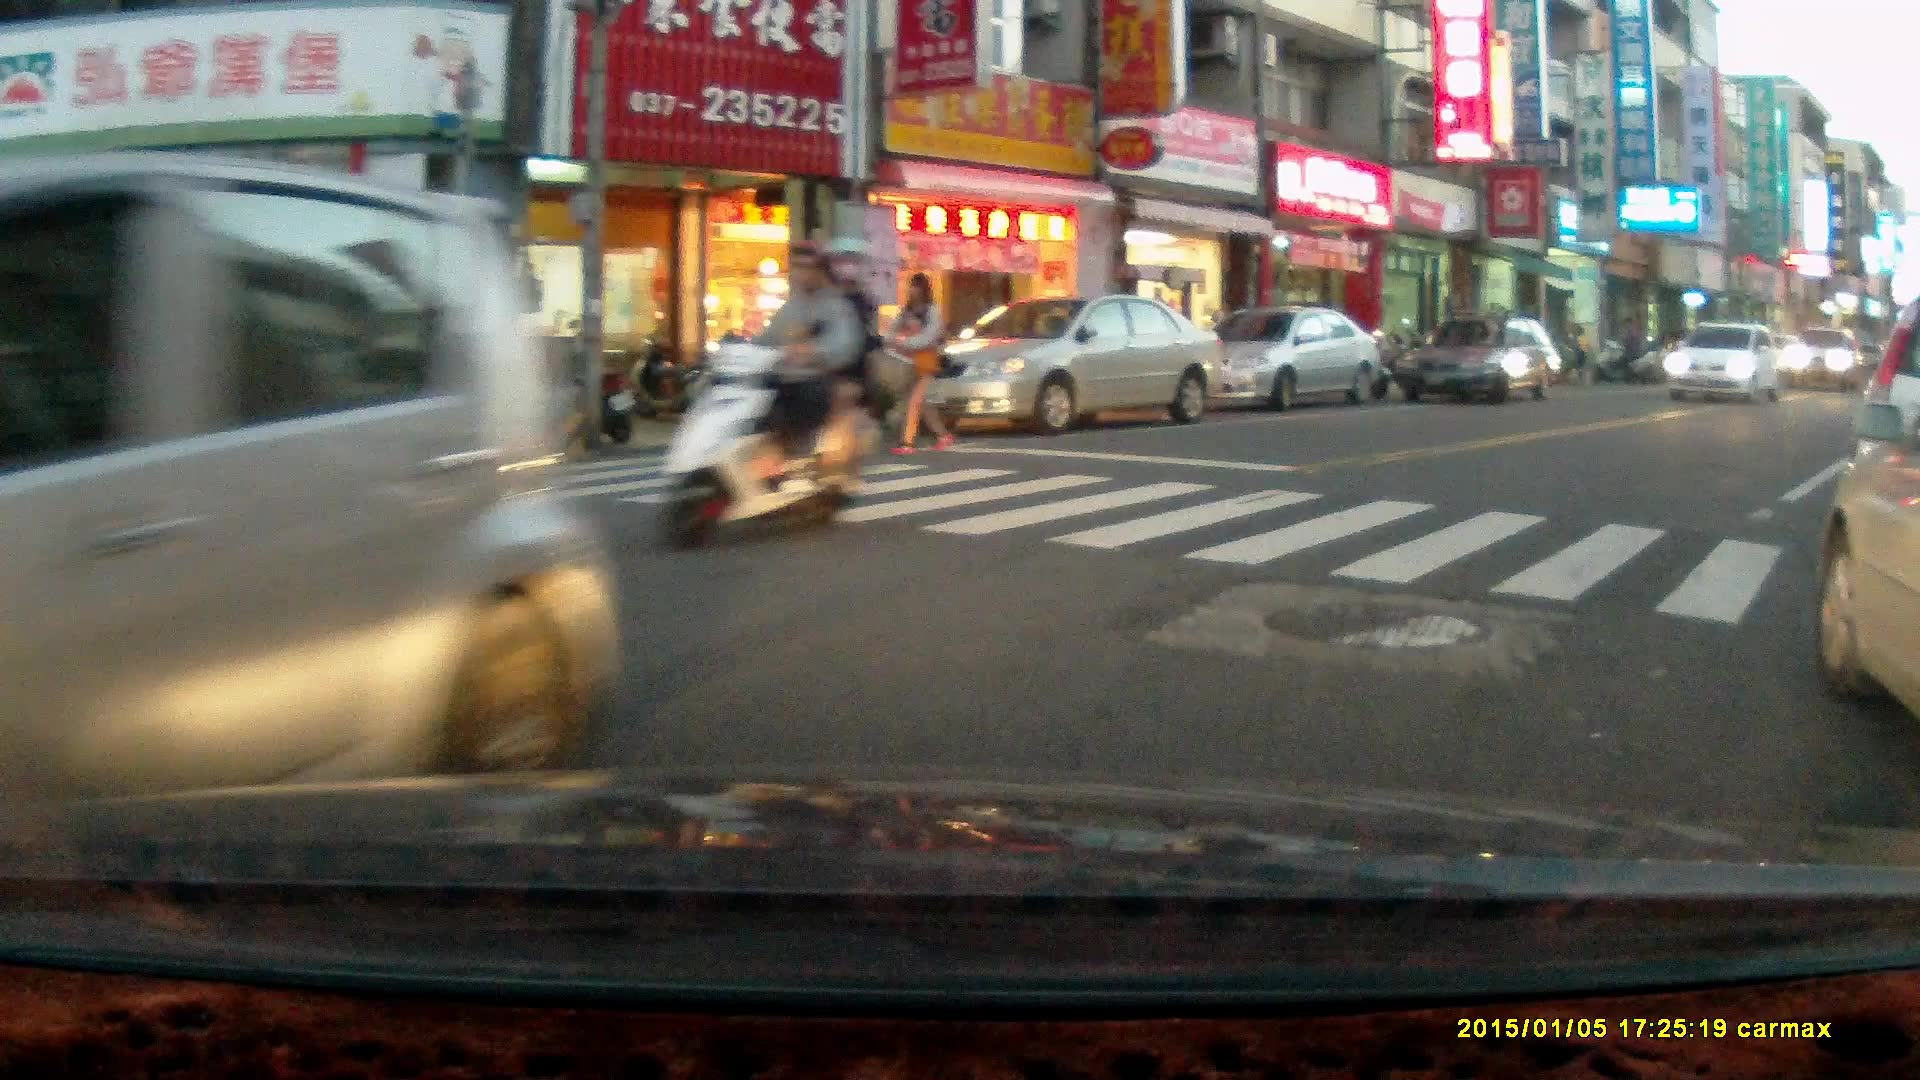pedestrian: (892, 267, 950, 455)
rider: (652, 233, 877, 554)
vehicle: (1, 149, 630, 797), (901, 291, 1228, 432), (1810, 401, 1920, 727), (1183, 306, 1383, 409), (1846, 304, 1920, 572), (1399, 312, 1564, 409), (1664, 320, 1786, 399), (1779, 321, 1870, 394)
